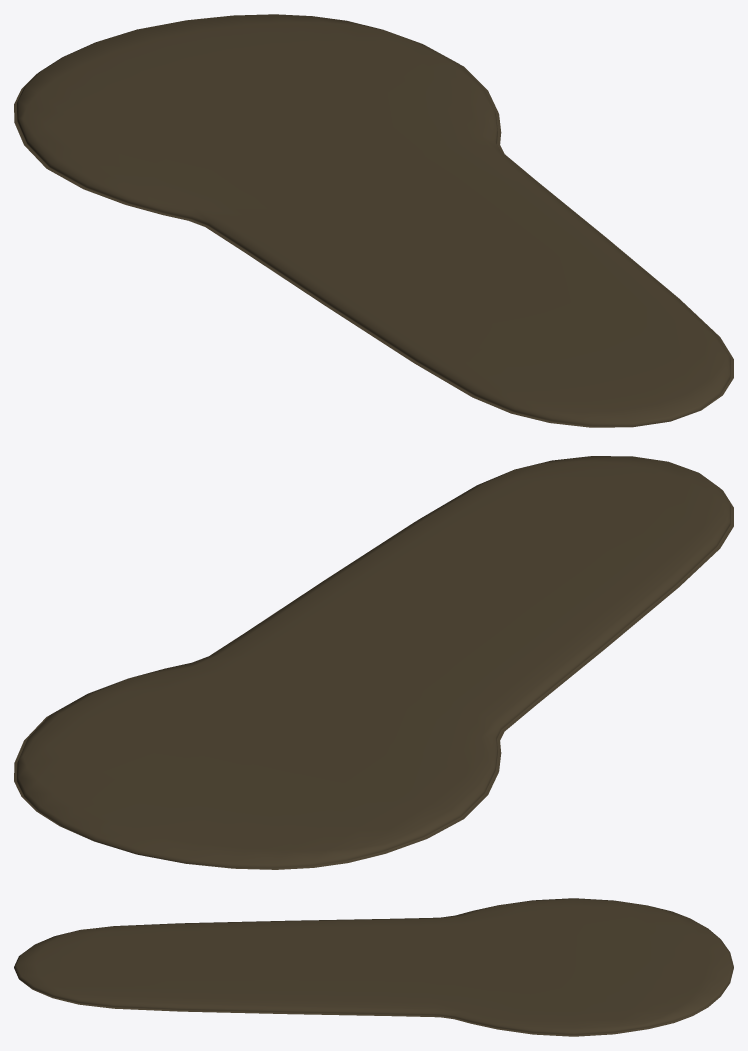
The model's file is Rotatoria.fbx.
3 views of the same model, one above another, from view 1: azimuth 30°, elevation 25°; view 2: azimuth 150°, elevation 25°; view 3: azimuth 270°, elevation 25° (orthographic). The views are drawn at different scales.
Visible parts, largest first — view 1: Rotatória.001; view 2: Rotatória.001; view 3: Rotatória.001.
Part boxes in pixels (bbox=[...]): Rotatória.001: bbox=[14, 14, 733, 427]; Rotatória.001: bbox=[14, 456, 733, 869]; Rotatória.001: bbox=[14, 898, 733, 1036].
Size of the model in its own units: 3649 by 59.04 by 8071.
